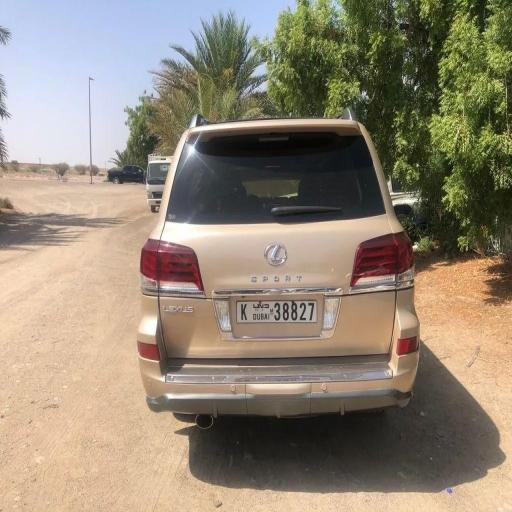license-plates: (237, 300, 317, 324)
